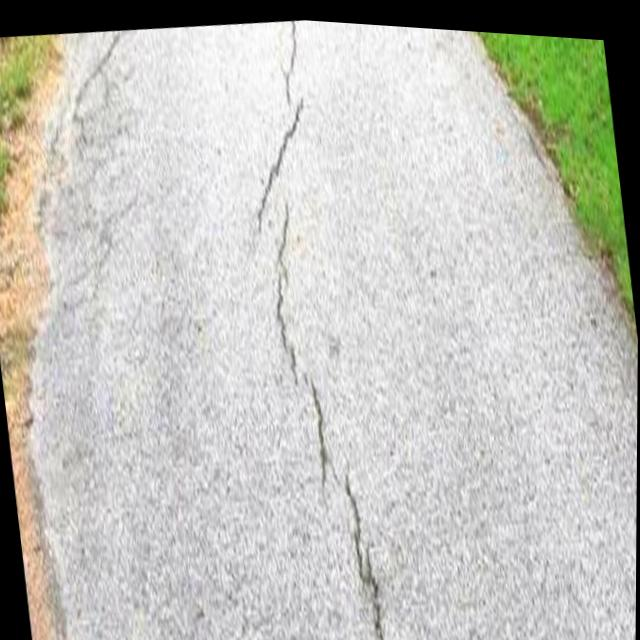Crack: (227, 14, 398, 640)
